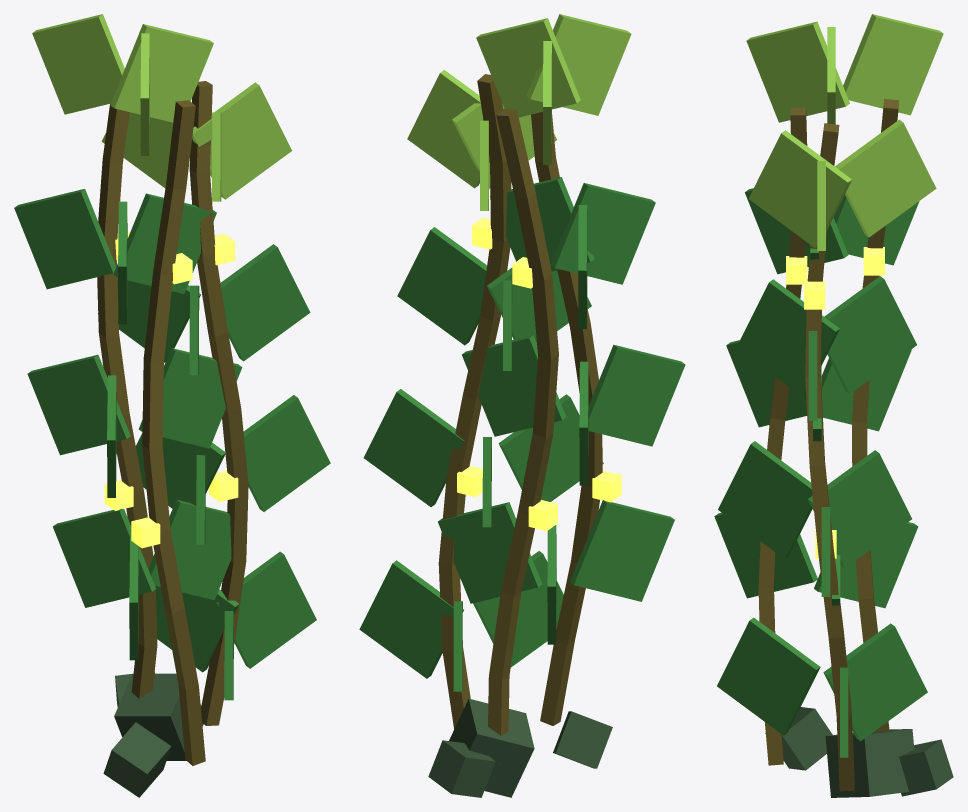
Rendered from KELP.glb.
The picture shows the model from 3 angles, left to right: view 1: azimuth 30°, elevation 25°; view 2: azimuth 150°, elevation 25°; view 3: azimuth 270°, elevation 25°; orthographic projection.
Visible parts, largest first — view 1: KELP_Main, KELP_Stem, KELP_Tip, KELP_Rock, KELP_Glow; view 2: KELP_Main, KELP_Stem, KELP_Tip, KELP_Rock, KELP_Glow; view 3: KELP_Main, KELP_Tip, KELP_Stem, KELP_Rock, KELP_Glow.
Boxes of the visible parts, bbox=[...] form: KELP_Main: bbox=[14, 189, 330, 700]; KELP_Stem: bbox=[97, 81, 248, 765]; KELP_Tip: bbox=[32, 14, 291, 201]; KELP_Rock: bbox=[103, 671, 203, 797]; KELP_Glow: bbox=[104, 231, 238, 548]; KELP_Main: bbox=[359, 177, 685, 691]; KELP_Stem: bbox=[438, 74, 602, 765]; KELP_Tip: bbox=[407, 14, 631, 210]; KELP_Rock: bbox=[428, 698, 612, 797]; KELP_Glow: bbox=[457, 217, 621, 530]; KELP_Main: bbox=[714, 188, 927, 757]; KELP_Tip: bbox=[746, 14, 943, 250]; KELP_Stem: bbox=[758, 99, 899, 791]; KELP_Rock: bbox=[765, 707, 953, 797]; KELP_Glow: bbox=[786, 247, 884, 558].
Bounding box in the file's own units: 1.46 × 3.92 × 1.12.
